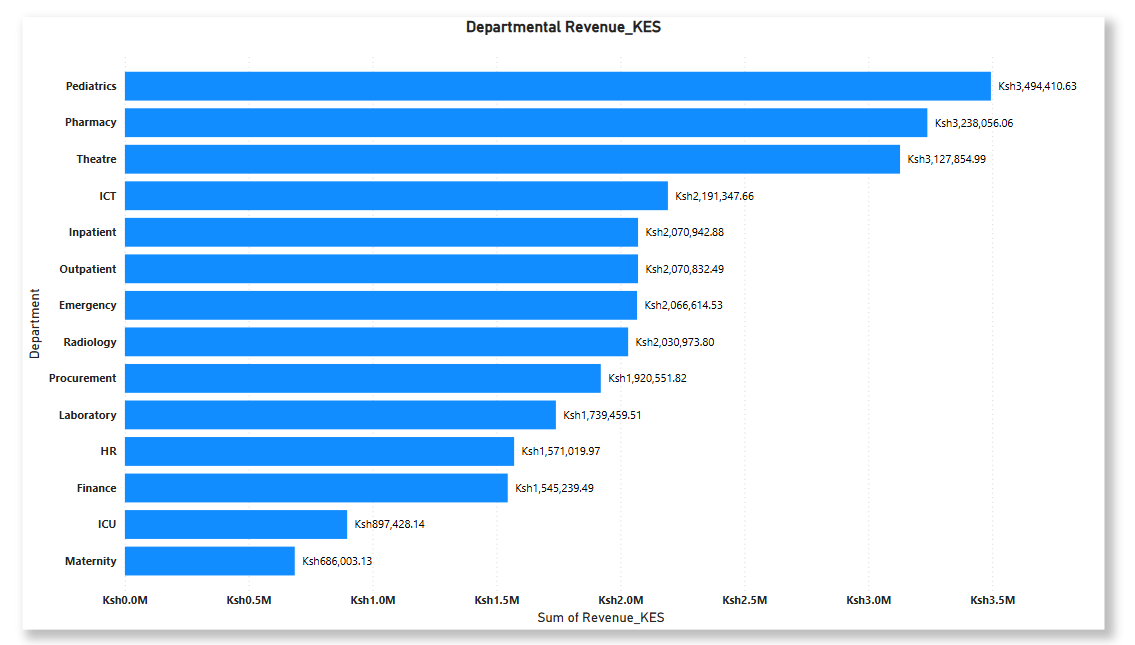

The dashboard page shown, as its layout file describes it:
{"tool":"powerbi","page":{"name":"Page 2","canvas":[1280,720],"ordinal":6},"visuals":[{"type":"clusteredBarChart","title":" Departmental Revenue_KES","fields":{"Category":["Hospital_Data.Department"],"Y":["Sum(Hospital_Data.Revenue_KES)"]},"box":[56.7,29.1,1168.1,661],"z":0}]}

Visuals, with their boxes in screenshot pixels (x1, y1, x2, y2), scaled from the page's 1280x720 canvas onto the 1135x645 screenshot:
" Departmental Revenue_KES" clusteredBarChart: 50 26 1086 618
